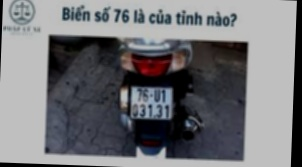Bien-so: (129, 84, 176, 120)
